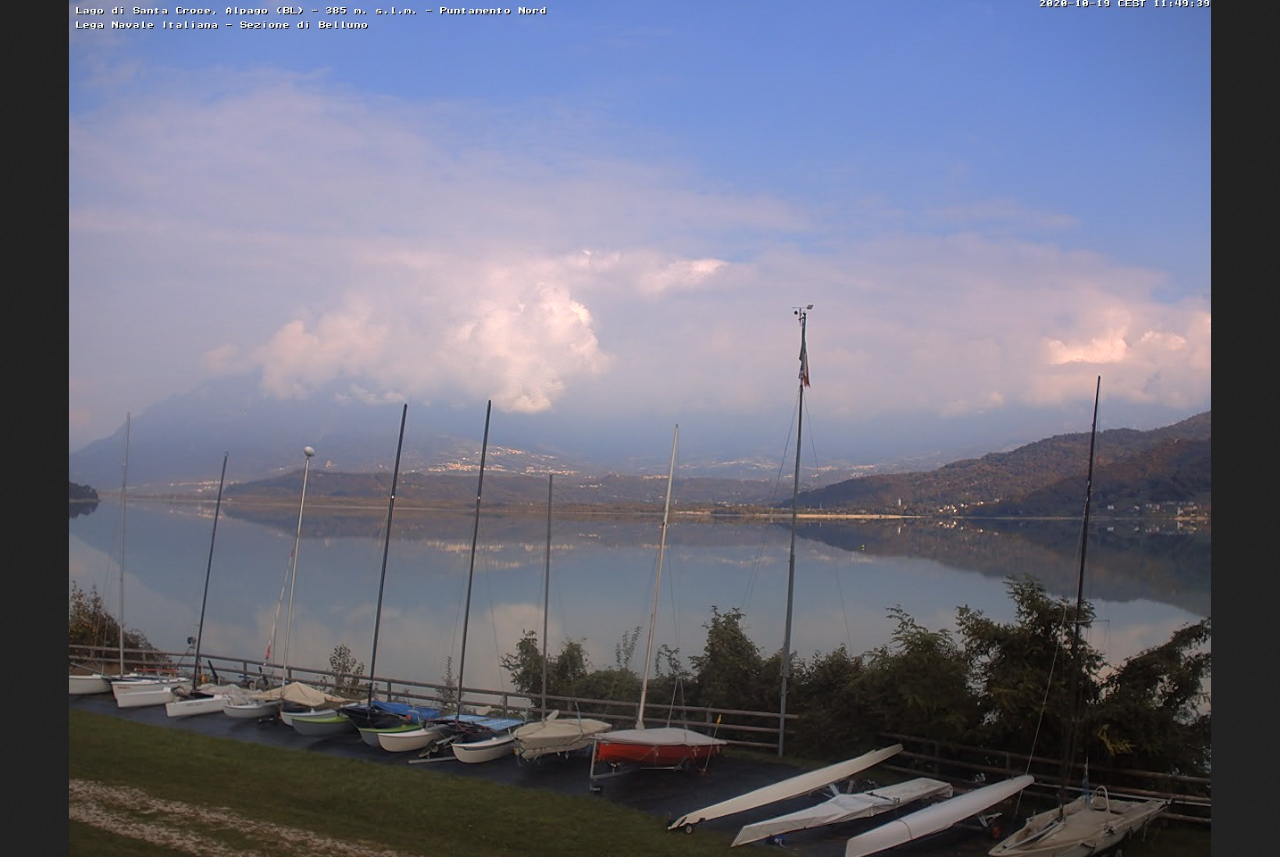no: (788, 318, 815, 387)
